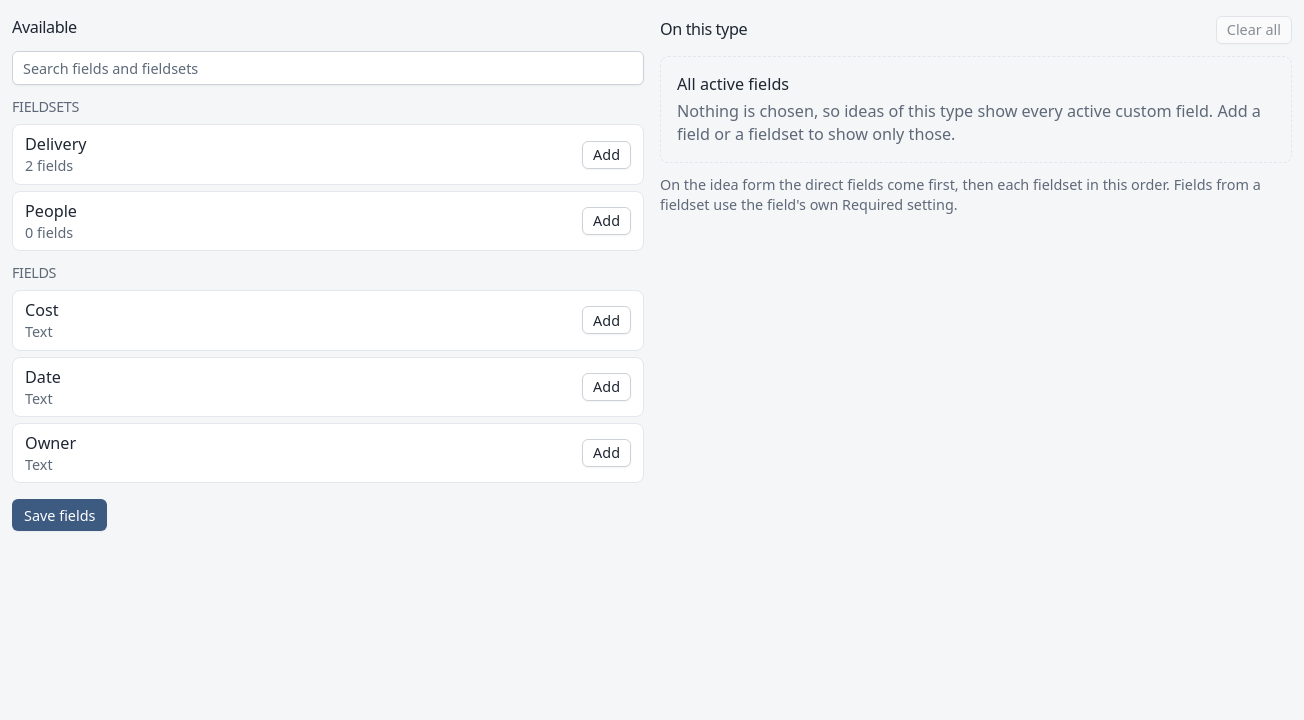
Test: the idea type field picker › shows an attached fieldset’s members read-only, marking an archived one
The width and height of the screenshot is (1304, 720).
Step 1. Click the button with aria-label "Add fieldset Delivery" → (607, 154), box [582,140,631,168]
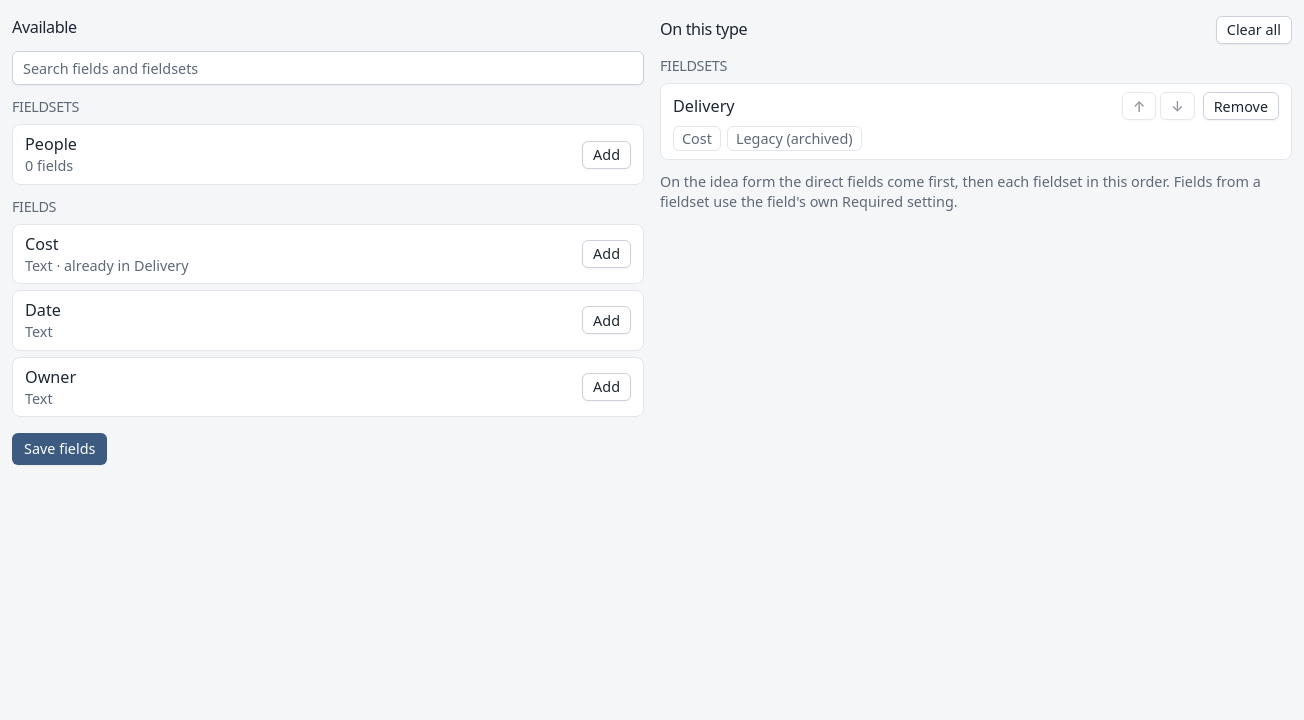
expect the text "Cost" next to "Legacy (archived)" is shown: met, box [682,129,712,148]
expect the text "Legacy (archived)" is shown: met, box [727,126,862,151]
